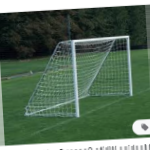goals: (23, 33, 133, 118)
